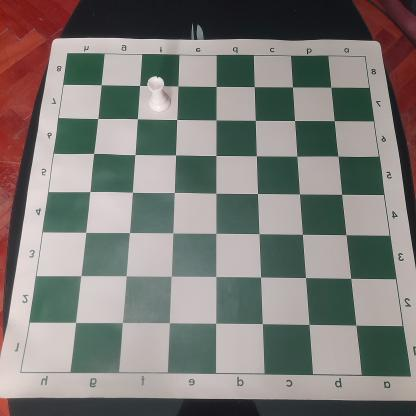white-rook: (143, 76, 174, 113)
